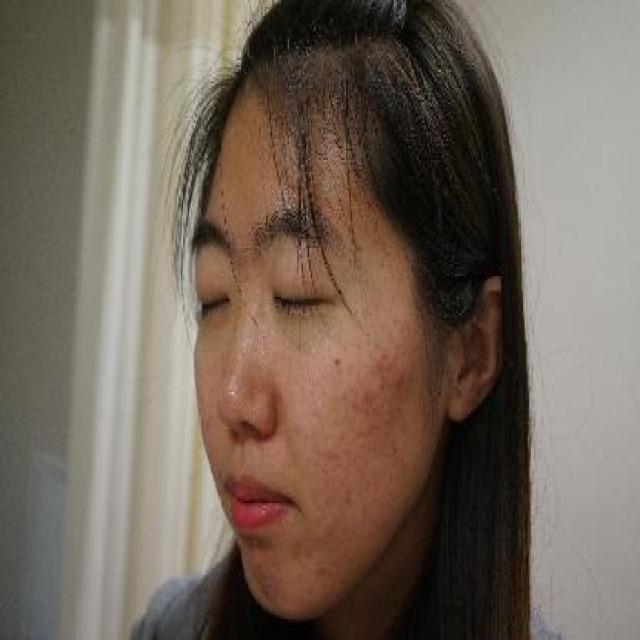blackheads: (330, 343, 348, 378)
papules: (250, 534, 262, 556), (397, 366, 408, 389)
